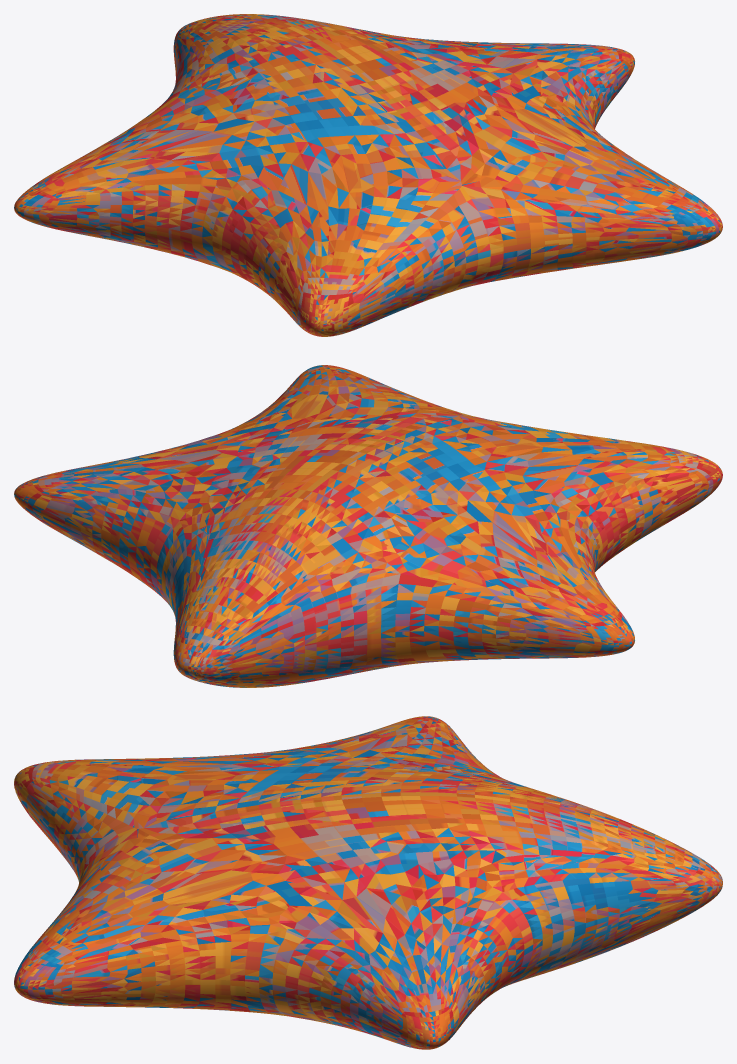
Rendered from EstrellaAterinaGibbossa.fbx.
3 renders of one model, top to bottom at view 1: azimuth 30°, elevation 25°; view 2: azimuth 150°, elevation 25°; view 3: azimuth 270°, elevation 25°, orthographic. The views are drawn at different scales.
Parts seen in each view (by area): view 1: Cube.001; view 2: Cube.001; view 3: Cube.001.
Boxes of the visible parts, x1=… form: Cube.001: x1=14, y1=14, x2=722, y2=336; Cube.001: x1=14, y1=365, x2=722, y2=687; Cube.001: x1=14, y1=716, x2=722, y2=1049.
Size of the model in its own units: 381 by 101 by 358.
1 material, 1 textured.
